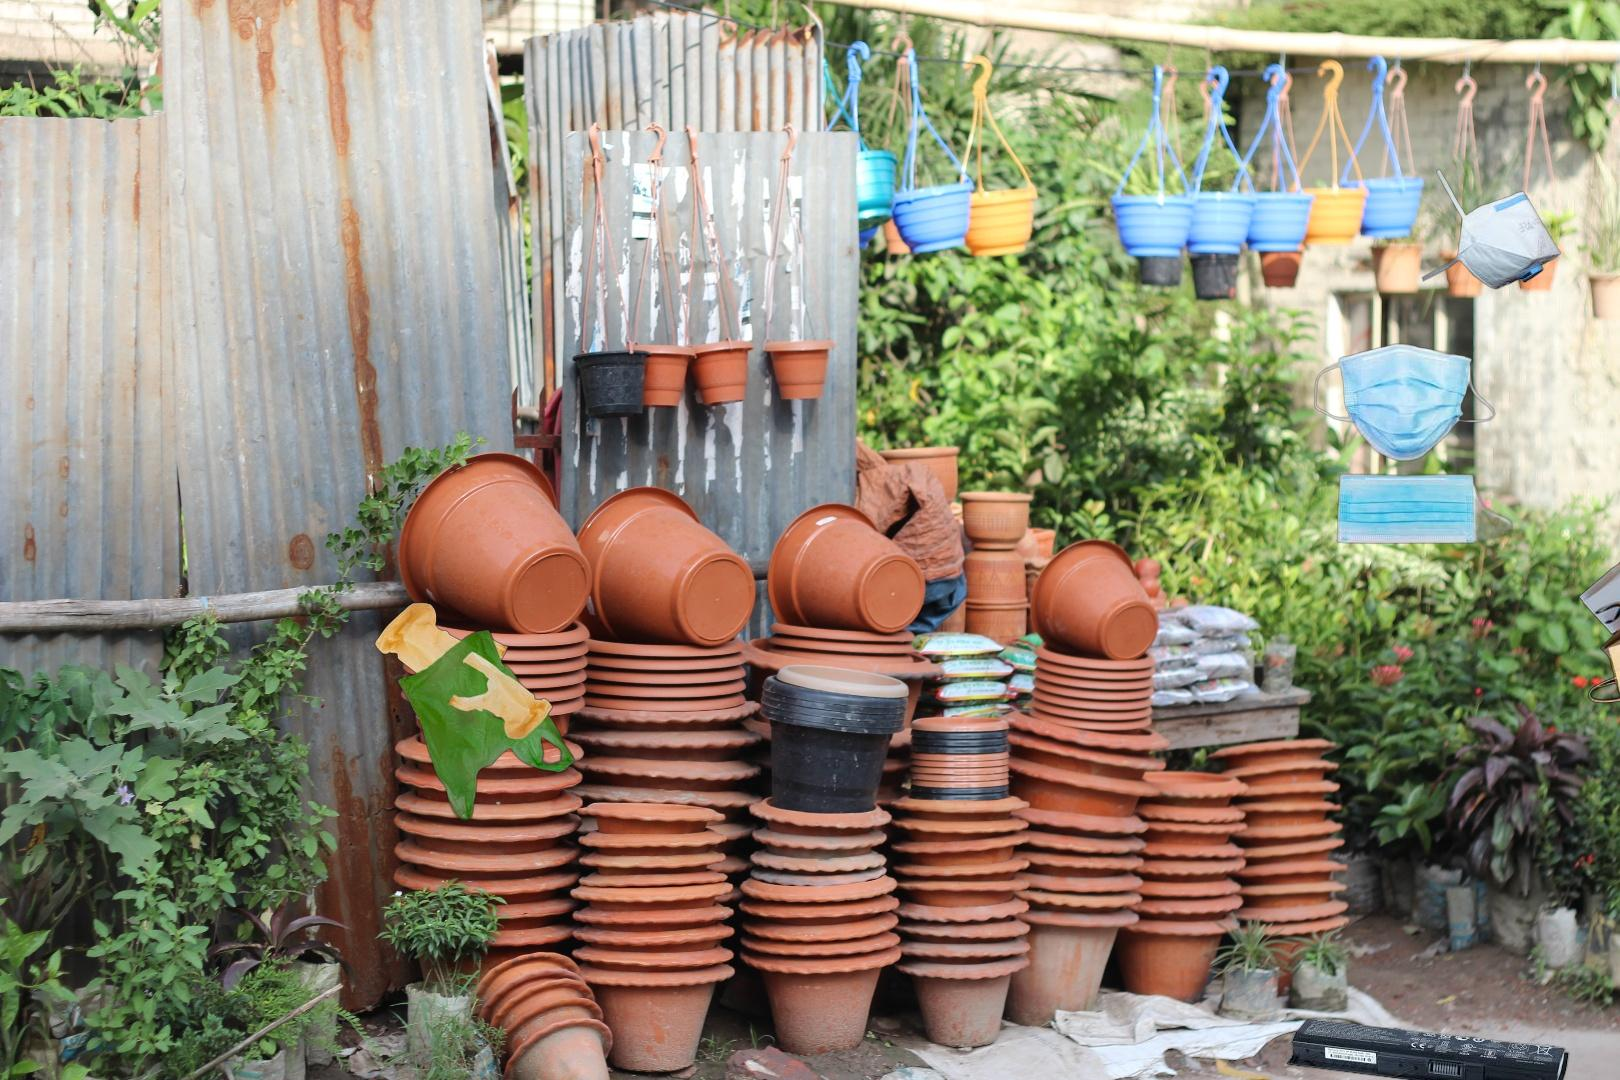battery: (1285, 1016, 1571, 1080)
paper-bag: (1575, 554, 1620, 777)
plastic-bag: (372, 600, 577, 824)
trash: (1305, 341, 1514, 564), (1419, 168, 1563, 292)
